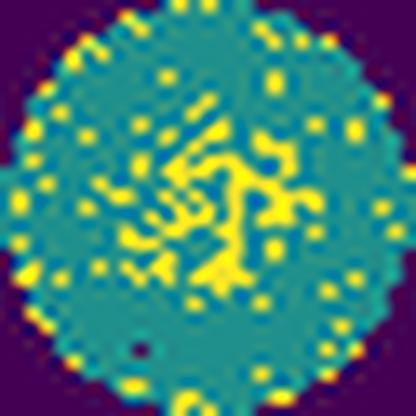Center: (68, 89, 331, 302)
